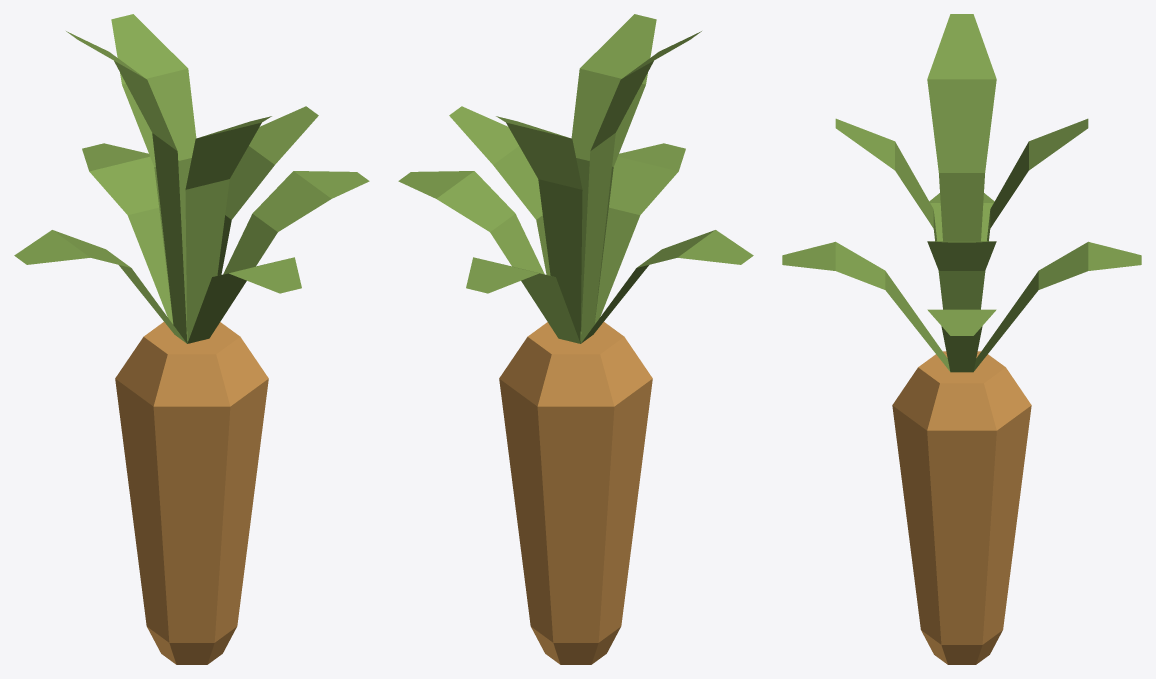
The model's file is crop_carrot.glb.
3 views of the same model, side by side, from view 1: azimuth 30°, elevation 25°; view 2: azimuth 150°, elevation 25°; view 3: azimuth 270°, elevation 25° (orthographic). The views are drawn at different scales.
Parts seen in each view (by area): view 1: crop_carrot; view 2: crop_carrot; view 3: crop_carrot.
Part boxes in pixels (<box>): crop_carrot: <box>14,14,369,664</box>; crop_carrot: <box>398,14,753,664</box>; crop_carrot: <box>782,14,1141,664</box>.
Size of the model in its own units: 0.3431 by 0.6194 by 0.3431.
